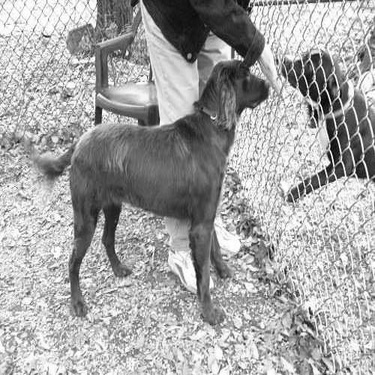dog: (13, 52, 276, 337), (266, 40, 367, 205)
